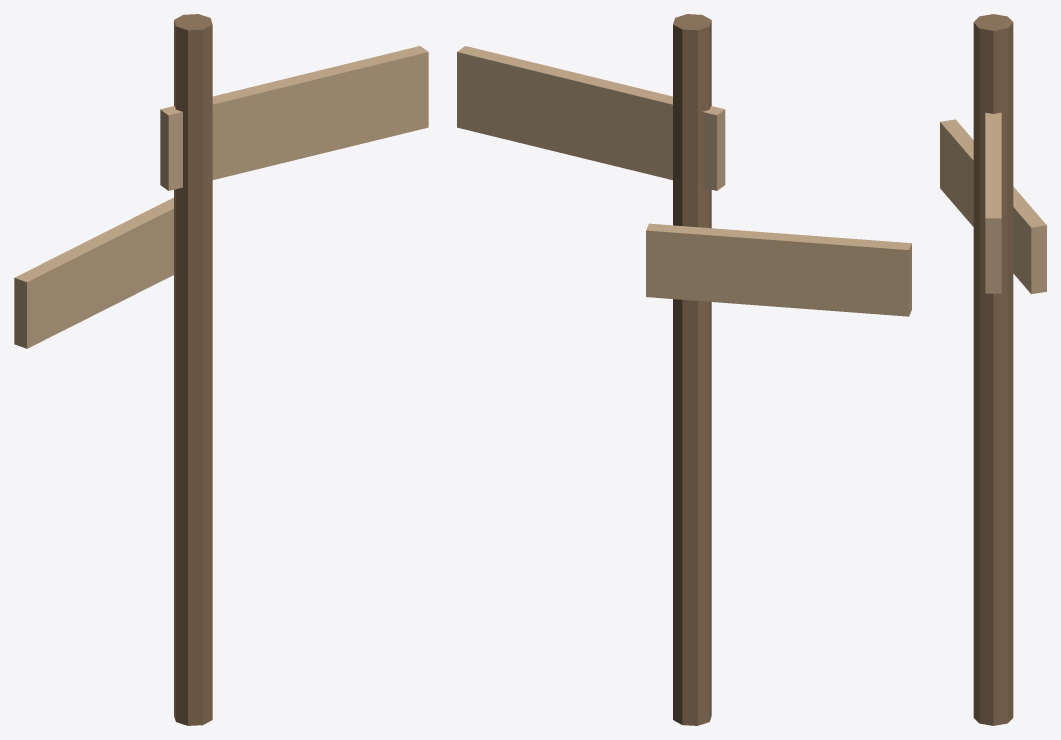
The model's file is signpost.glb.
3 renders of one model, left to right at view 1: azimuth 30°, elevation 25°; view 2: azimuth 150°, elevation 25°; view 3: azimuth 270°, elevation 25°, orthographic.
Visible parts, largest first — view 1: signpost; view 2: signpost; view 3: signpost.
Part boxes in pixels (left/top/right/bottom): signpost: left=14, top=14, right=428, bottom=725; signpost: left=457, top=14, right=911, bottom=725; signpost: left=940, top=14, right=1046, bottom=725.
Size of the model in its own units: 1.48 by 2.3 by 0.3206.
